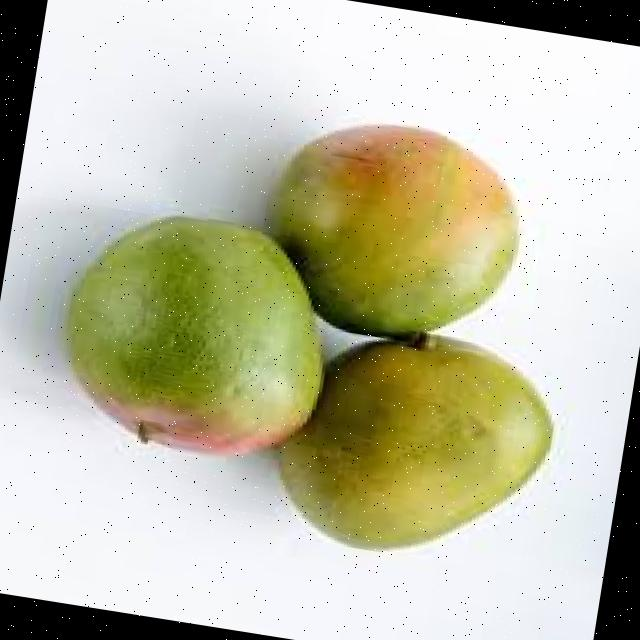mango: (68, 215, 324, 461)
